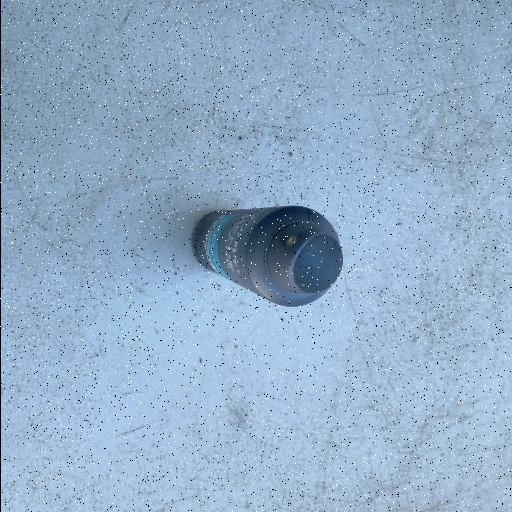Metal: (189, 202, 345, 308)
